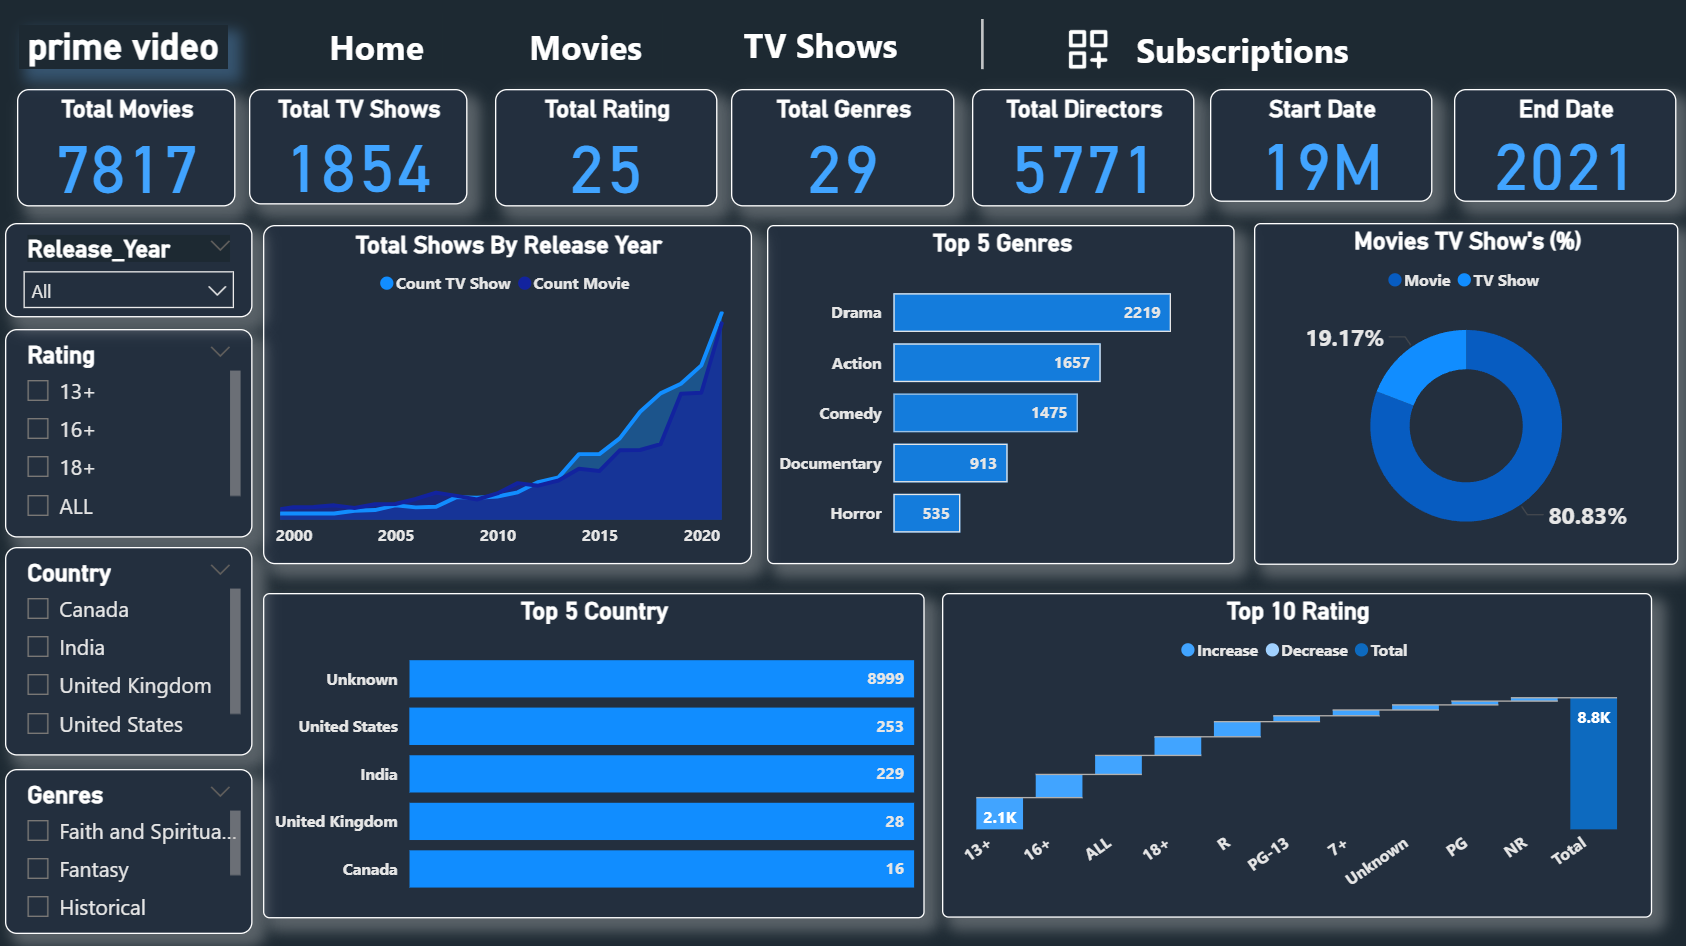

What the dashboard file says about the page in this screenshot:
{"tool":"powerbi","page":{"name":"Home","canvas":[1280,720],"ordinal":0},"visuals":[{"type":"card","title":"Total Movies","fields":{"Values":["Count(amazon_prime_titles.Show_id)"]},"box":[15.3,68.9,165.4,88.8],"z":0},{"type":"card","title":"Total Rating","fields":{"Values":["Count(amazon_prime_titles.Rating)"]},"box":[376.7,68.9,168.4,88.8],"z":1000},{"type":"card","title":"Total Genres","fields":{"Values":["Count(amazon_prime_titles.Genres)"]},"box":[555.8,68.9,168.4,88.8],"z":2000},{"type":"card","title":"Total Directors","fields":{"Values":["Count(amazon_prime_titles.Director)"]},"box":[738,68.9,168.4,88.8],"z":3000},{"type":"card","title":"Start Date","fields":{"Values":["Sum(amazon_prime_titles.Release_Year)"]},"box":[918.7,68.9,168.4,85.7],"z":4000},{"type":"card","title":"End Date","fields":{"Values":["Max(amazon_prime_titles.Release_Year)"]},"box":[1102.4,68.9,168.4,85.7],"z":5000},{"type":"card","title":"Total Movies","fields":{"Values":["Count(amazon_prime_titles.Show_id)"]},"box":[191.4,68.9,165.4,87.3],"z":6000},{"type":"donutChart","title":"Movies TV Show''s (%)","fields":{"Category":["amazon_prime_titles.Type"],"Y":["CountNonNull(amazon_prime_titles.Show_id)"]},"box":[950.8,170,321.5,258.8],"z":7000},{"type":"barChart","title":" Top 5 Genres","fields":{"Category":["amazon_prime_titles.Genres"],"Y":["CountNonNull(amazon_prime_titles.Show_id)"]},"box":[583.3,171.5,353.7,257.2],"z":8000},{"type":"areaChart","title":"Total Shows By Release Year","fields":{"Category":["amazon_prime_titles.Release_Year"],"Y2":["amazon_prime_titles.Count of Show_id for Movie"],"Y":["amazon_prime_titles.Count of Show_id for TV Show"]},"box":[202.1,171.5,370.5,257.2],"z":9000},{"type":"clusteredBarChart","title":"Top 5 Country","fields":{"Y":["CountNonNull(amazon_prime_titles.Show_id)"],"Category":["amazon_prime_titles.Country"]},"box":[202.1,450.1,500.7,246.5],"z":10000},{"type":"waterfallChart","title":"Top 10 Rating","fields":{"Category":["amazon_prime_titles.Rating"],"Y":["CountNonNull(amazon_prime_titles.Show_id)"]},"box":[715.2,450,538,246.1],"z":11000},{"type":"slicer","fields":{"Values":["amazon_prime_titles.Rating"]},"box":[6.4,249.9,187.4,158.1],"z":12000},{"type":"slicer","fields":{"Values":["amazon_prime_titles.Country"]},"box":[6.4,415.6,187.4,158.1],"z":13000},{"type":"slicer","fields":{"Values":["amazon_prime_titles.Genres"]},"box":[6.4,582.6,187.4,124.9],"z":14000},{"type":"textbox","title":"prime video","box":[16.6,20.4,158.1,33.1],"z":15000},{"type":"image","box":[803.2,8.9,49.7,58.6],"z":16000},{"type":"shape","box":[703.7,15.3,85.4,38.2],"z":17000},{"type":"actionButton","box":[237.1,10.2,99.4,49.7],"z":18000},{"type":"actionButton","box":[387.6,10.2,116,49.7],"z":19000},{"type":"actionButton","box":[555.9,8.9,135.1,49.7],"z":20000},{"type":"actionButton","box":[852.9,15.3,179.8,44.6],"z":21000},{"type":"slicer","fields":{"Values":["amazon_prime_titles.Release_Year"]},"box":[6.4,169.6,187.4,71.4],"z":22000}]}

Visuals, with their boxes in screenshot pixels (x1, y1, x2, y2), scaled from the page's 1280x720 canvas onto the 1686x946 screenshot:
"Total Movies" card: box=[20, 91, 238, 207]
"Total Rating" card: box=[496, 91, 718, 207]
"Total Genres" card: box=[732, 91, 954, 207]
"Total Directors" card: box=[972, 91, 1194, 207]
"Start Date" card: box=[1210, 91, 1432, 203]
"End Date" card: box=[1452, 91, 1674, 203]
"Total Movies" card: box=[252, 91, 470, 205]
"Movies TV Show''s (%)" donutChart: box=[1252, 223, 1676, 563]
" Top 5 Genres" barChart: box=[768, 225, 1234, 563]
"Total Shows By Release Year" areaChart: box=[266, 225, 754, 563]
"Top 5 Country" clusteredBarChart: box=[266, 591, 926, 915]
"Top 10 Rating" waterfallChart: box=[942, 591, 1651, 915]
slicer - amazon_prime_titles.Rating: box=[8, 328, 255, 536]
slicer - amazon_prime_titles.Country: box=[8, 546, 255, 754]
slicer - amazon_prime_titles.Genres: box=[8, 765, 255, 930]
"prime video" textbox: box=[22, 27, 230, 70]
image: box=[1058, 12, 1123, 89]
shape: box=[927, 20, 1039, 70]
actionButton: box=[312, 13, 443, 79]
actionButton: box=[511, 13, 663, 79]
actionButton: box=[732, 12, 910, 77]
actionButton: box=[1123, 20, 1360, 79]
slicer - amazon_prime_titles.Release_Year: box=[8, 223, 255, 317]
